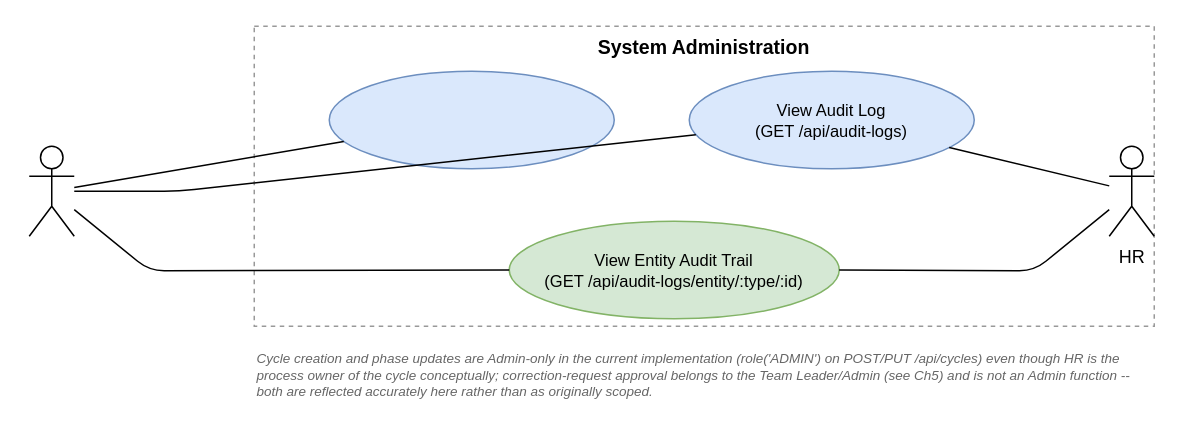
The diagram is 1181 pixels wide and 426 high, and some of its shapes have lost their labels. Each missing label, with the centre of its shape:
"Admin" belongs at (51,190).
"Manage Cycles incl. phase configuration (POST/PUT /api/cycles)" belongs at (471,119).
